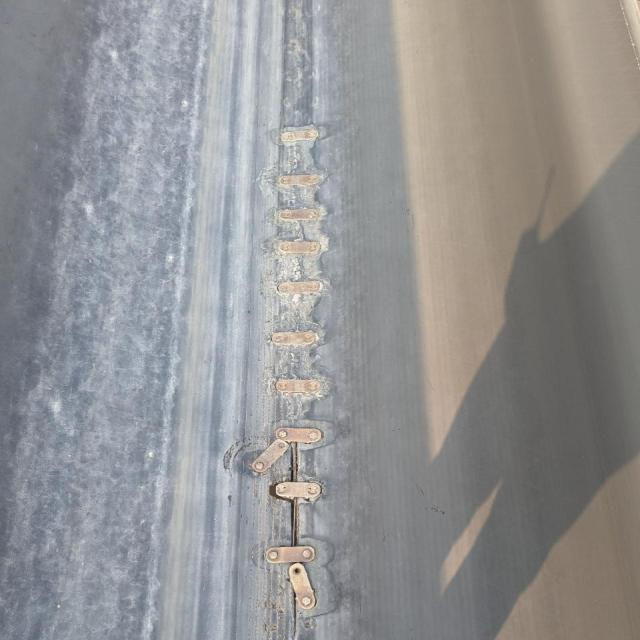patch work: (212, 93, 378, 640)
